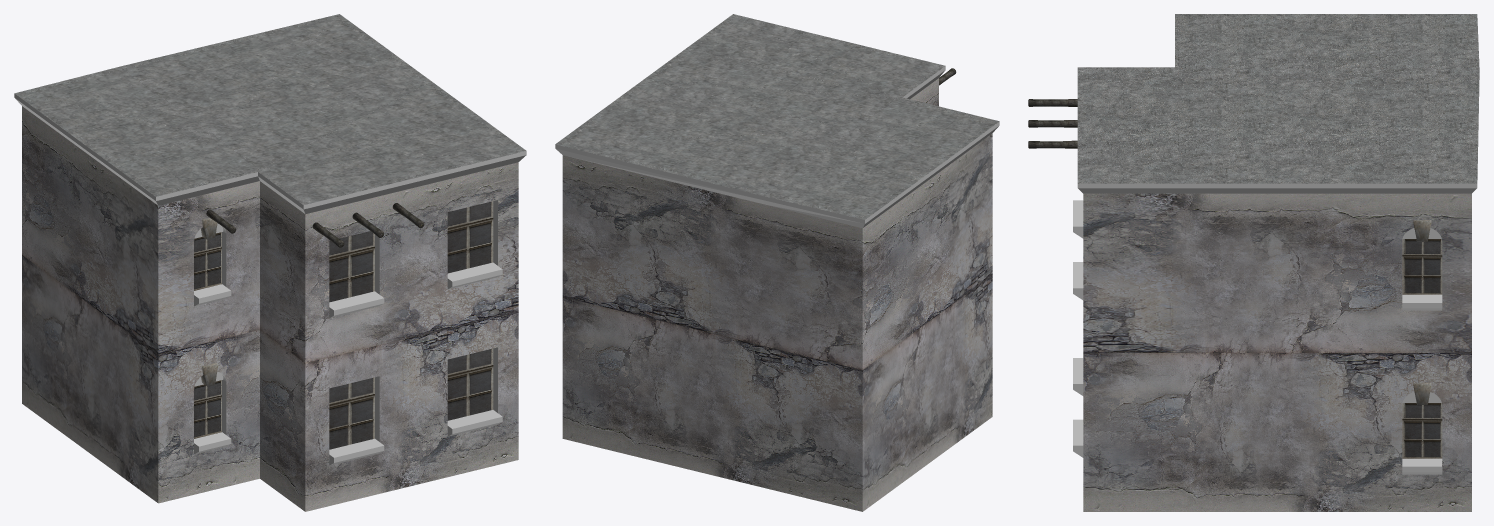
Rendered from Building_08.fbx.
3 views of the same model, side by side, from view 1: azimuth 30°, elevation 25°; view 2: azimuth 150°, elevation 25°; view 3: azimuth 270°, elevation 25° (orthographic). The views are drawn at different scales.
Parts seen in each view (by area): view 1: Building_08; view 2: Building_08; view 3: Building_08.
Part boxes in pixels (x1,y1,x2,y2): Building_08: (14,14,526,511); Building_08: (555,14,999,511); Building_08: (1028,14,1479,511).
Size of the model in its own units: 521 by 470 by 580.
